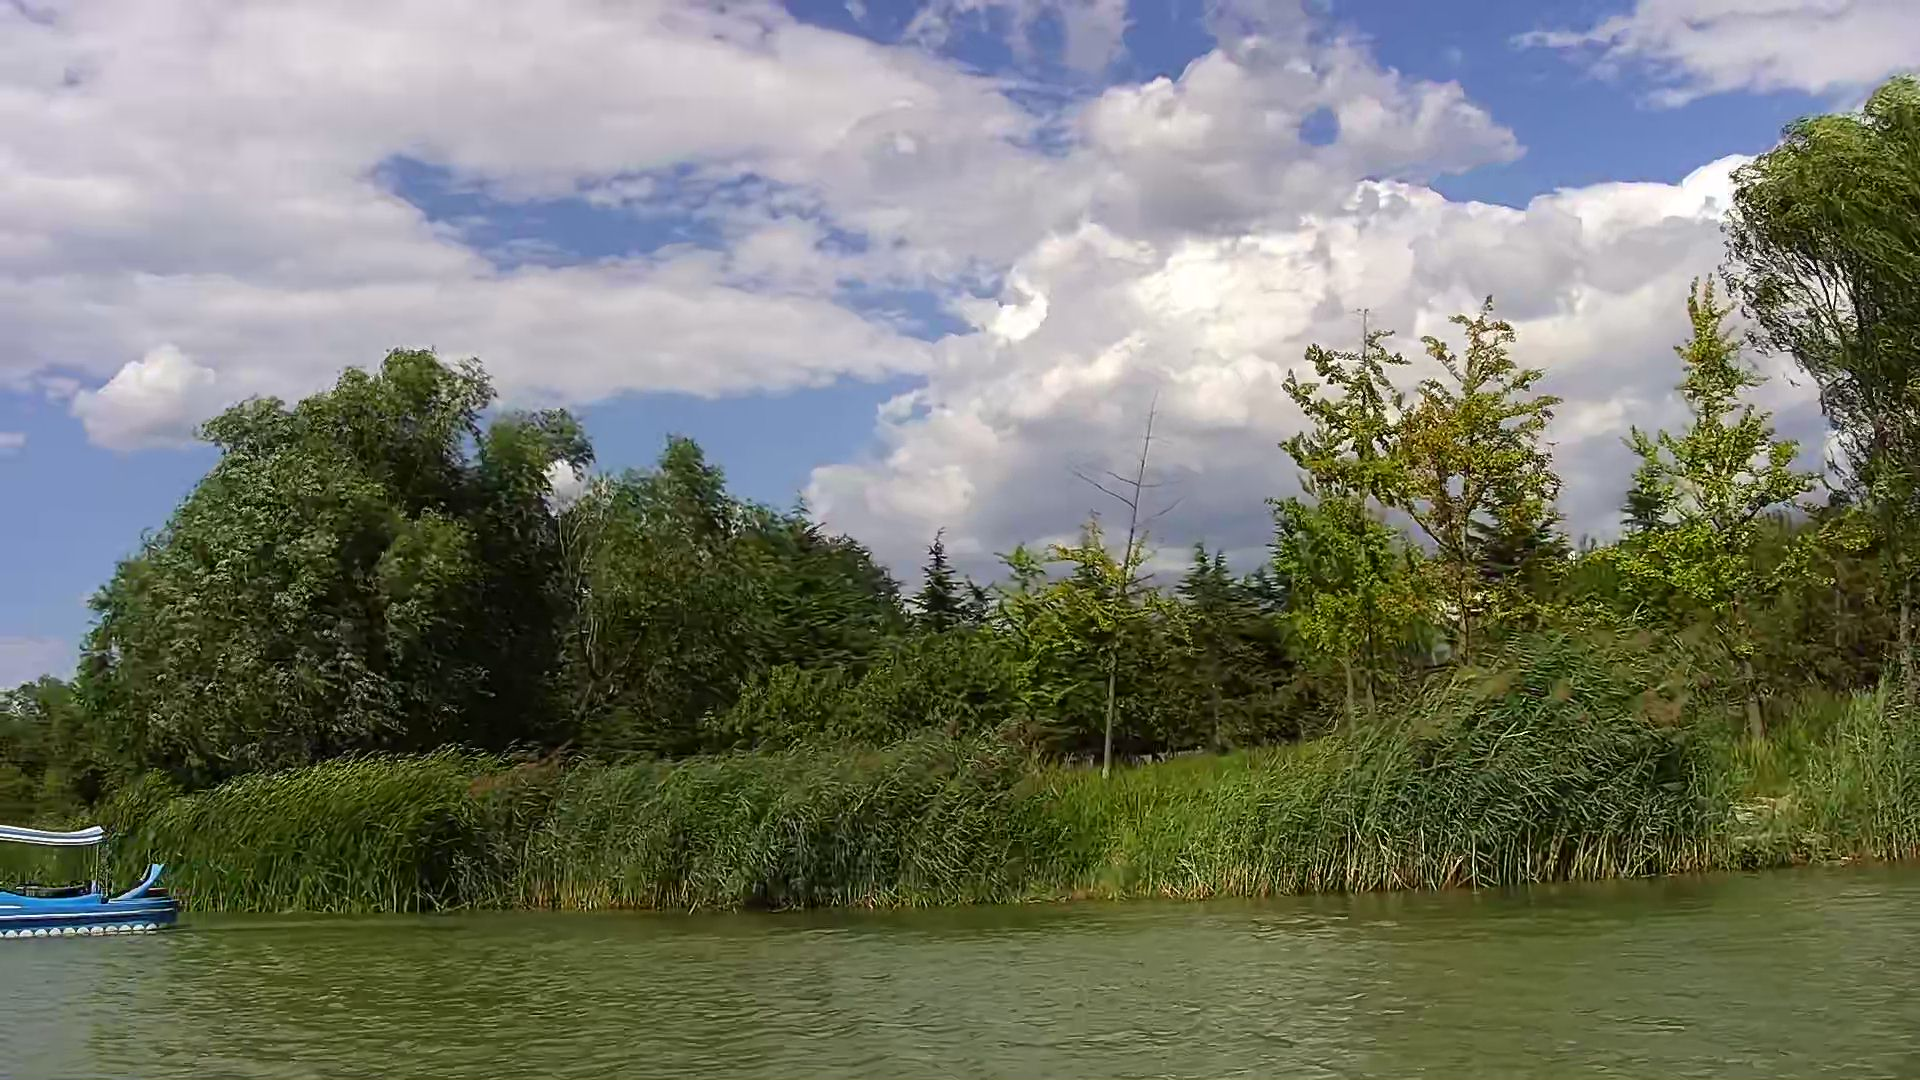boat: (1, 822, 185, 945)
